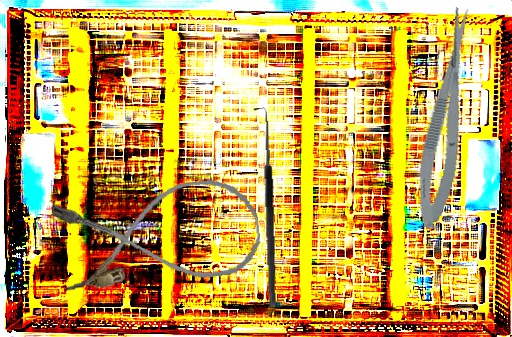Cannula: (50, 174, 265, 296)
Hook Surgical: (252, 107, 278, 308)
Micro Scissor: (408, 5, 486, 232)
